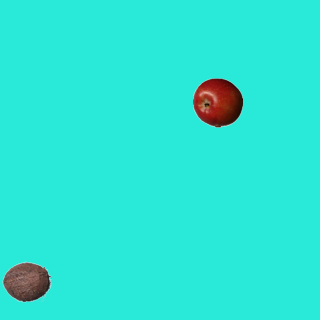Apple Braeburn: (192, 77, 242, 127)
Cocos: (1, 256, 51, 306)
